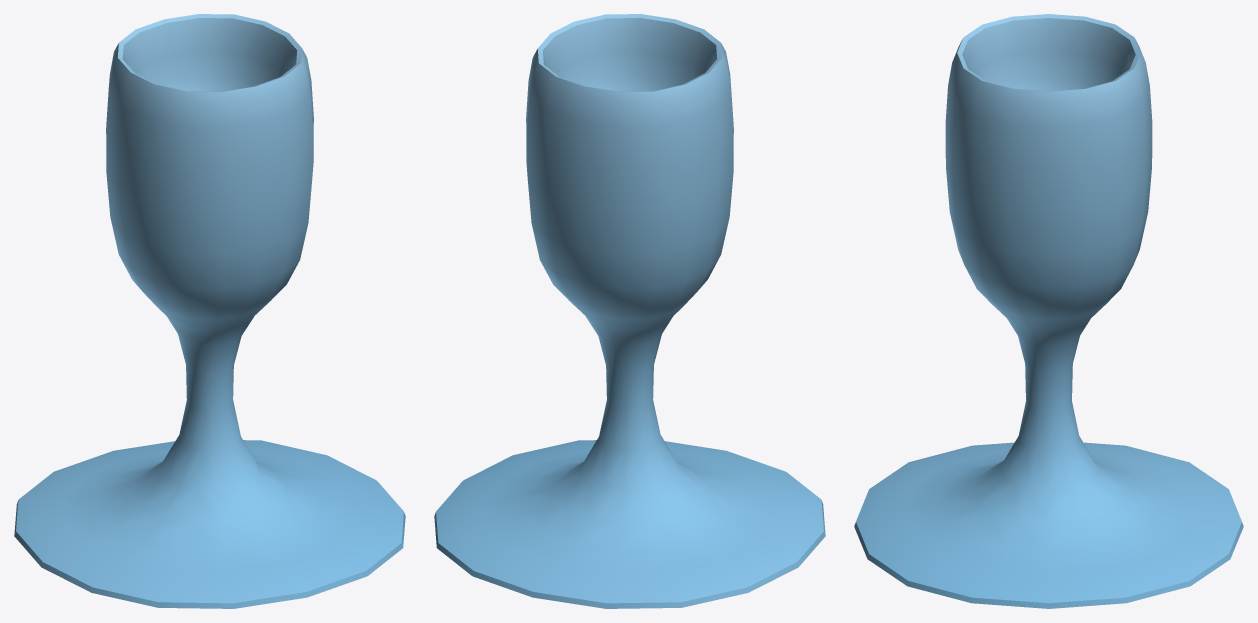
Rendered from pohar.fbx.
3 views of the same model, side by side, from view 1: azimuth 30°, elevation 25°; view 2: azimuth 150°, elevation 25°; view 3: azimuth 270°, elevation 25° (orthographic).
Visible parts, largest first — view 1: koktelpohar; view 2: koktelpohar; view 3: koktelpohar.
Boxes of the visible parts, <box> form: koktelpohar: <box>14,14,405,608</box>; koktelpohar: <box>434,14,825,608</box>; koktelpohar: <box>854,14,1243,608</box>.
Bounding box in the file's own units: 0.1562 × 0.2143 × 0.1562.
Materials: 1 (1 with a texture image).
